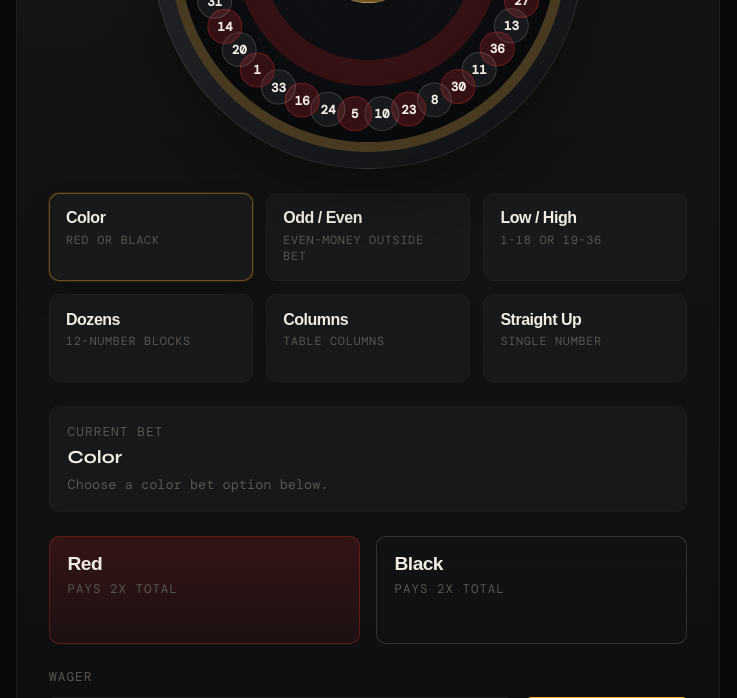
Scenario: EarnPage › shows the backend error when a roulette spin fails
This screenshot has width=737, height=698.
(page scrolled)
Click the button "Columns Table columns": (368, 338) [266,294,470,382]
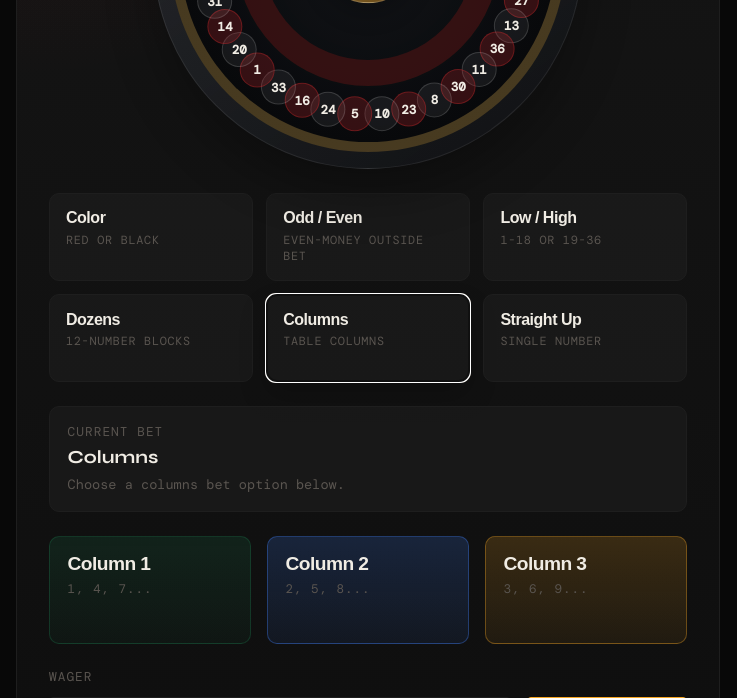
Click the button "Column 3 3, 6, 9...": (586, 590) [485,536,687,644]
(page scrolled)
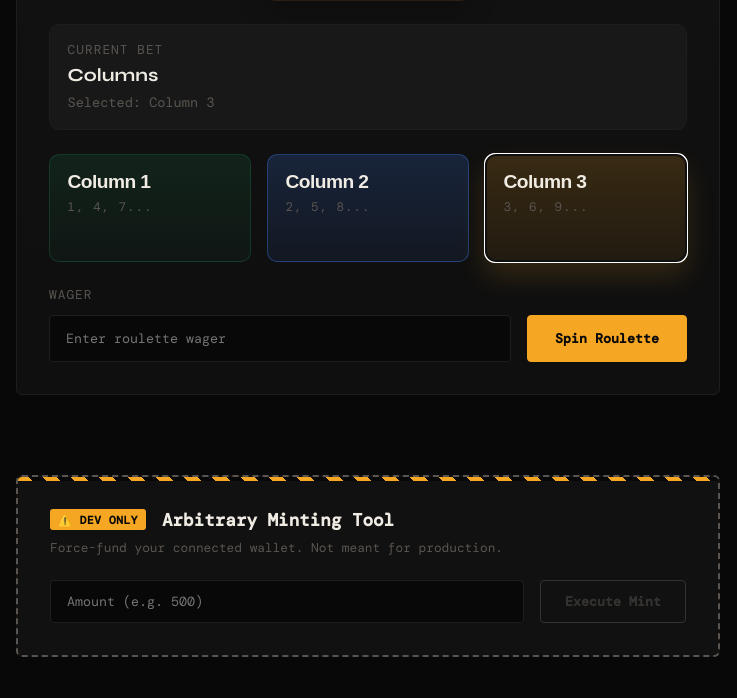
In the field with placeholder "Enter roulette wager": (280, 338) [49,315,511,362], type "500"
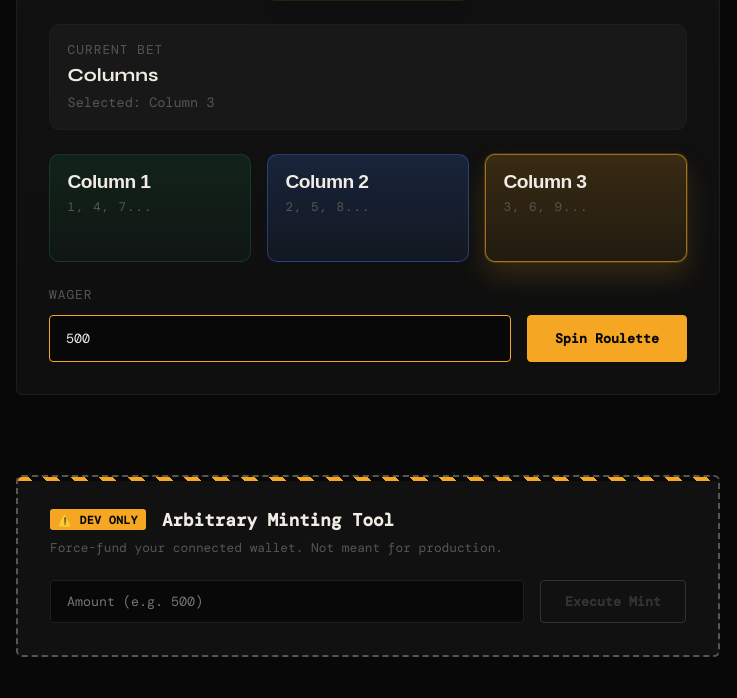
Click the button "Spin Roulette": (607, 338) [527,315,687,362]
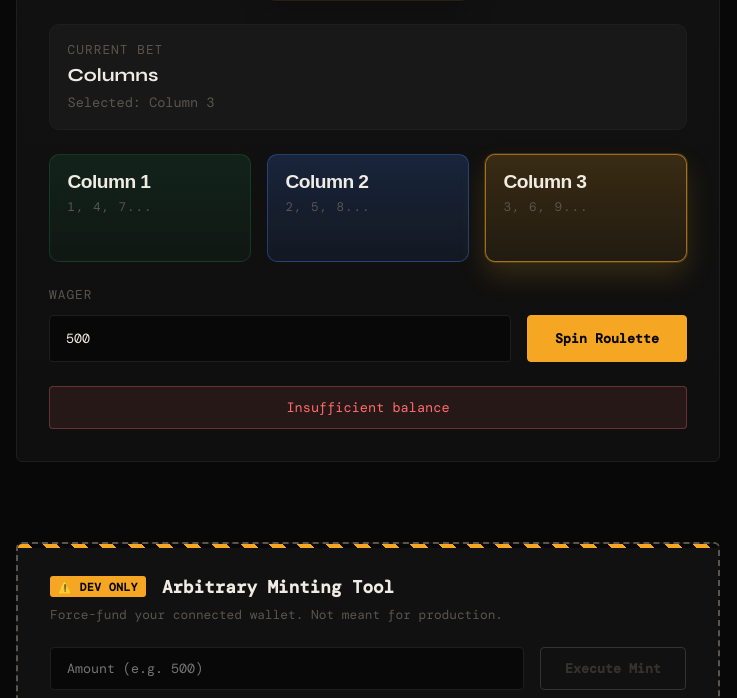
expect the text "Insufficient balance" is shown: met, box [49,386,687,429]
